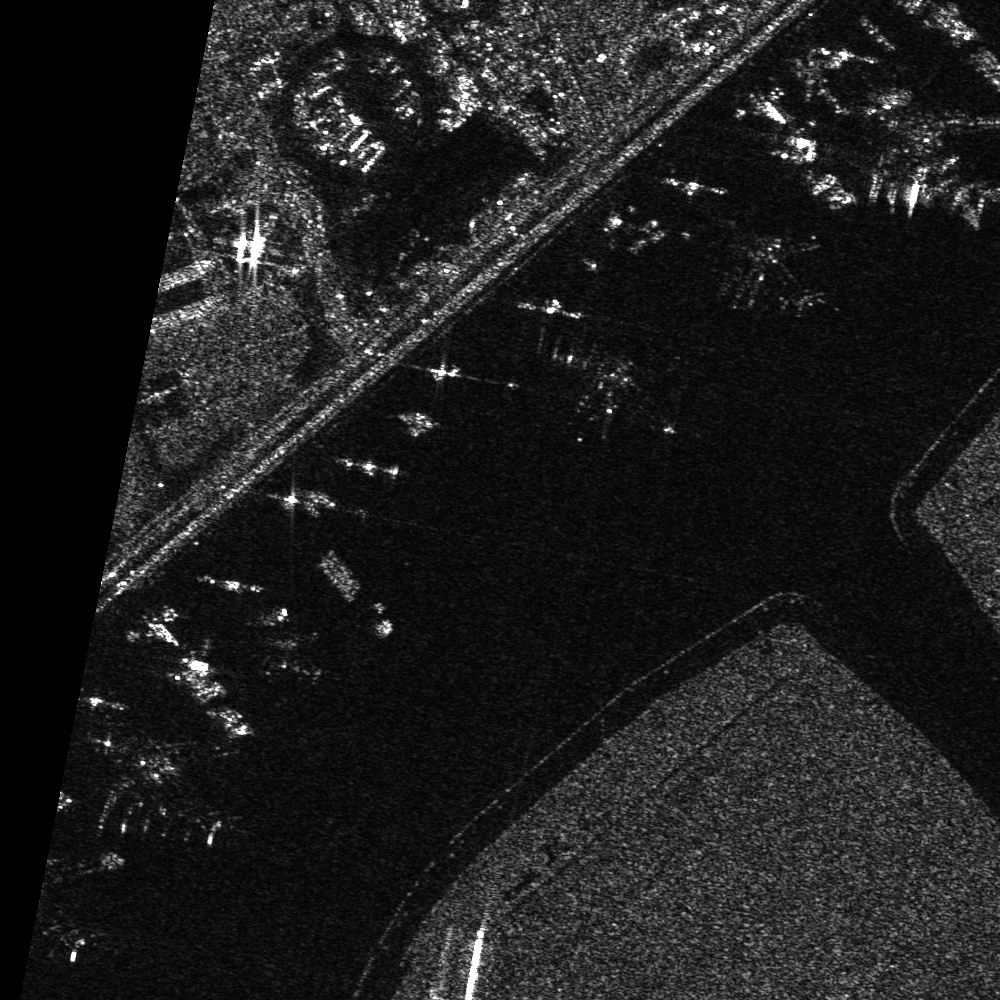Boeing737: (718, 224, 831, 321)
Boeing787: (87, 717, 246, 855)
other: (876, 100, 999, 224), (563, 327, 674, 449), (247, 597, 334, 686)
